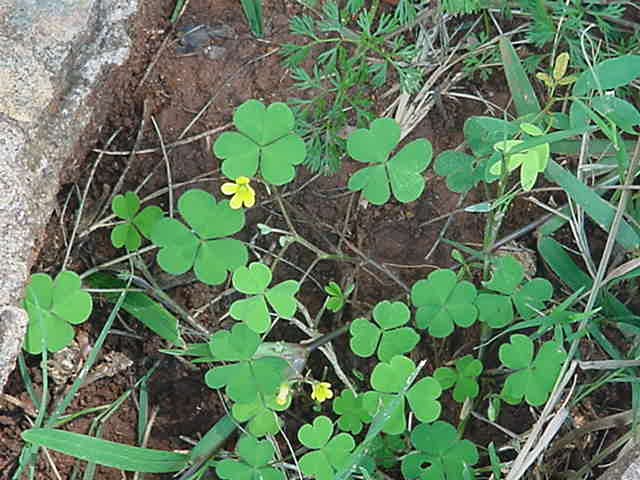oxalis: (320, 246, 562, 480), (198, 295, 317, 480), (116, 191, 265, 285), (179, 112, 322, 209), (353, 95, 443, 217), (25, 258, 94, 375)
